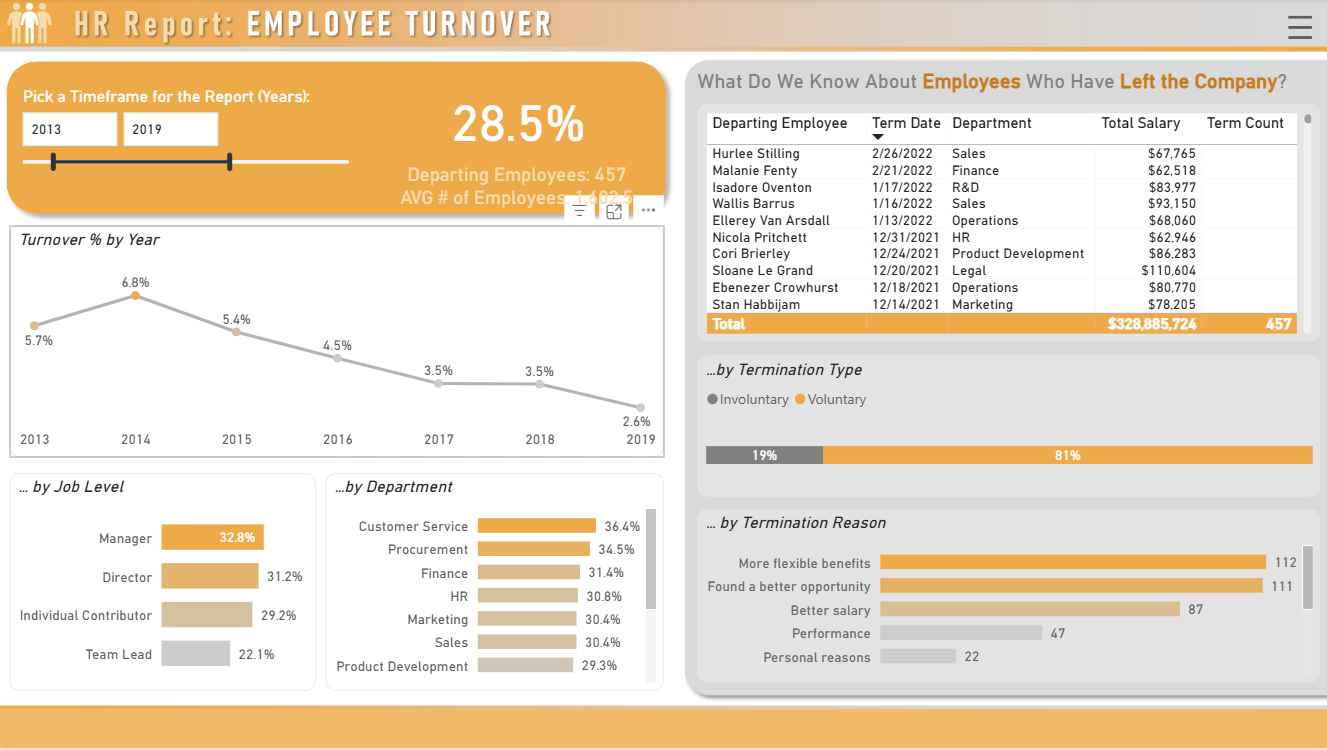

The page's visual inventory and layout, read from the dashboard file:
{"tool":"powerbi","page":{"name":"Turnover","canvas":[1280,720],"ordinal":3},"visuals":[{"type":"shape","box":[0,51.6,650.7,164.5],"z":0},{"type":"clusteredBarChart","title":"...by Department","fields":{"Category":["department_dim.department"],"Y":["_Measures.Turnover %"]},"box":[315.5,455.5,324.1,208.7],"z":1000},{"type":"clusteredBarChart","title":"... by Job Level","fields":{"Category":["job_level_dim.job_level"],"Y":["_Measures.Turnover %"]},"box":[12.3,455.5,293.4,208.7],"z":2000},{"type":"lineChart","fields":{"Category":["Date.Year"],"Y":["_Measures.Turnover %"]},"box":[12.3,218.5,627.3,222.2],"z":3000},{"type":"tableEx","fields":{"Values":["people_fact.Full Name","people_fact.term_date","department_dim.department","Sum(people_fact.salary)","_Measures.Departing Employees"]},"box":[671.5,101.9,597.9,227.1],"z":4000},{"type":"hundredPercentStackedBarChart","title":"...by Termination Type","fields":{"Series":["term_dim.term_type"],"Y":["_Measures.Departing Employees"]},"box":[671.5,342.5,597.9,135],"z":5000},{"type":"clusteredBarChart","title":"... by Termination Reason","fields":{"Category":["term_dim.term_reason"],"Y":["_Measures.Departing Employees"]},"box":[671.8,489.8,597.9,165.7],"z":6000},{"type":"slicer","fields":{"Values":["Date.Year"]},"box":[12.3,79.8,338.8,108],"z":7000},{"type":"card","fields":{"Values":["_Measures.Departing Employees Text"]},"box":[348.7,140,299.5,58.9],"z":8000},{"type":"card","fields":{"Values":["_Measures.Avg. # of Employees Text"]},"box":[346.2,154.7,304.4,74.9],"z":9000},{"type":"card","fields":{"Values":["_Measures.Turnover %"]},"box":[360.9,71.2,278.7,87.2],"z":10000},{"type":"textbox","box":[666.6,63.8,597.9,49.1],"z":11000},{"type":"actionButton","box":[1218.6,0,61.4,51.6],"z":12000},{"type":"group","id":"g1","title":"Slicer Panel","box":[958.6,43.7,321.4,637.1],"z":13000},{"type":"shape","box":[0,682.4,1279.7,37.5],"z":14000}]}

Visuals, with their boxes in screenshot pixels (x1, y1, x2, y2), scaled from the page's 1280x720 canvas onto the 1327x750 screenshot:
shape: left=0, top=54, right=675, bottom=225
"...by Department" clusteredBarChart: left=327, top=474, right=663, bottom=692
"... by Job Level" clusteredBarChart: left=13, top=474, right=317, bottom=692
lineChart - Date.Year x _Measures.Turnover %: left=13, top=228, right=663, bottom=459
tableEx - people_fact.Full Name x people_fact.term_date: left=696, top=106, right=1316, bottom=343
"...by Termination Type" hundredPercentStackedBarChart: left=696, top=357, right=1316, bottom=497
"... by Termination Reason" clusteredBarChart: left=696, top=510, right=1316, bottom=683
slicer - Date.Year: left=13, top=83, right=364, bottom=196
card - _Measures.Departing Employees Text: left=362, top=146, right=672, bottom=207
card - _Measures.Avg. # of Employees Text: left=359, top=161, right=674, bottom=239
card - _Measures.Turnover %: left=374, top=74, right=663, bottom=165
textbox: left=691, top=66, right=1311, bottom=118
actionButton: left=1263, top=0, right=1326, bottom=54
"Slicer Panel" group: left=994, top=46, right=1326, bottom=709
shape: left=0, top=711, right=1326, bottom=749
